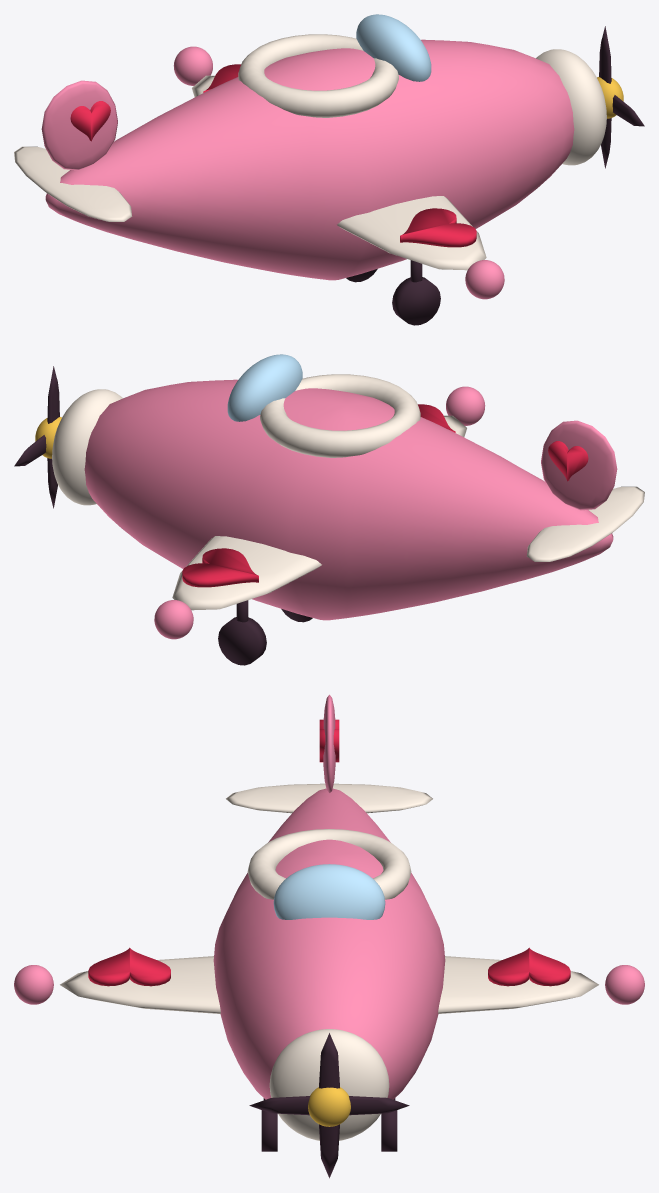
3 renders of one model, top to bottom at view 1: azimuth 30°, elevation 25°; view 2: azimuth 150°, elevation 25°; view 3: azimuth 270°, elevation 25°, orthographic.
Parts seen in each view (by area): view 1: Body, CockpitRim, Wing, Fin, Nose, Stabiliser, Windscreen, WingHeartR, WheelR, WingTipR, WingTipL, FinHeart (+3 smaller); view 2: Body, CockpitRim, Wing, Fin, Nose, Stabiliser, Windscreen, WingHeartL, WheelL, WingTipL, WingTipR, FinHeart (+3 smaller); view 3: Body, Wing, Nose, Windscreen, CockpitRim, Stabiliser, WingHeartL, WingHeartR, Blade1, Blade0, PropHub, WingTipL (+4 smaller).
Part boxes in pixels (x1,y1,x2,y2): Body: [45, 39, 574, 280]; CockpitRim: [238, 34, 398, 117]; Wing: [192, 75, 486, 270]; Fin: [41, 80, 117, 170]; Nose: [536, 49, 606, 165]; Stabiliser: [14, 146, 132, 221]; Windscreen: [356, 14, 431, 81]; WingHeartR: [400, 208, 476, 247]; WheelR: [392, 277, 440, 325]; WingTipR: [465, 260, 504, 299]; WingTipL: [173, 46, 212, 85]; FinHeart: [70, 101, 110, 141]; Body: [84, 379, 613, 620]; CockpitRim: [260, 374, 420, 457]; Wing: [172, 415, 466, 610]; Fin: [541, 420, 617, 510]; Nose: [52, 389, 122, 505]; Stabiliser: [526, 486, 644, 561]; Windscreen: [227, 354, 302, 421]; WingHeartL: [182, 548, 258, 587]; WheelL: [218, 617, 266, 665]; WingTipL: [154, 600, 193, 639]; WingTipR: [446, 386, 485, 425]; FinHeart: [548, 441, 588, 481]; Body: [213, 788, 445, 1099]; Wing: [60, 956, 598, 1013]; Nose: [269, 1029, 389, 1140]; Windscreen: [273, 864, 385, 919]; CockpitRim: [247, 829, 411, 899]; Stabiliser: [226, 783, 432, 813]; WingHeartL: [488, 947, 570, 986]; WingHeartR: [88, 947, 170, 986]; Blade1: [249, 1096, 409, 1115]; Blade0: [319, 1033, 339, 1178]; PropHub: [308, 1087, 350, 1126]; WingTipL: [605, 965, 644, 1004].
Size of the model in its own units: 1.7 by 0.8249 by 1.58.
